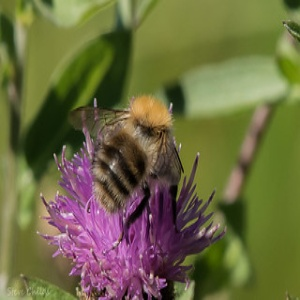bee: (67, 92, 179, 229)
